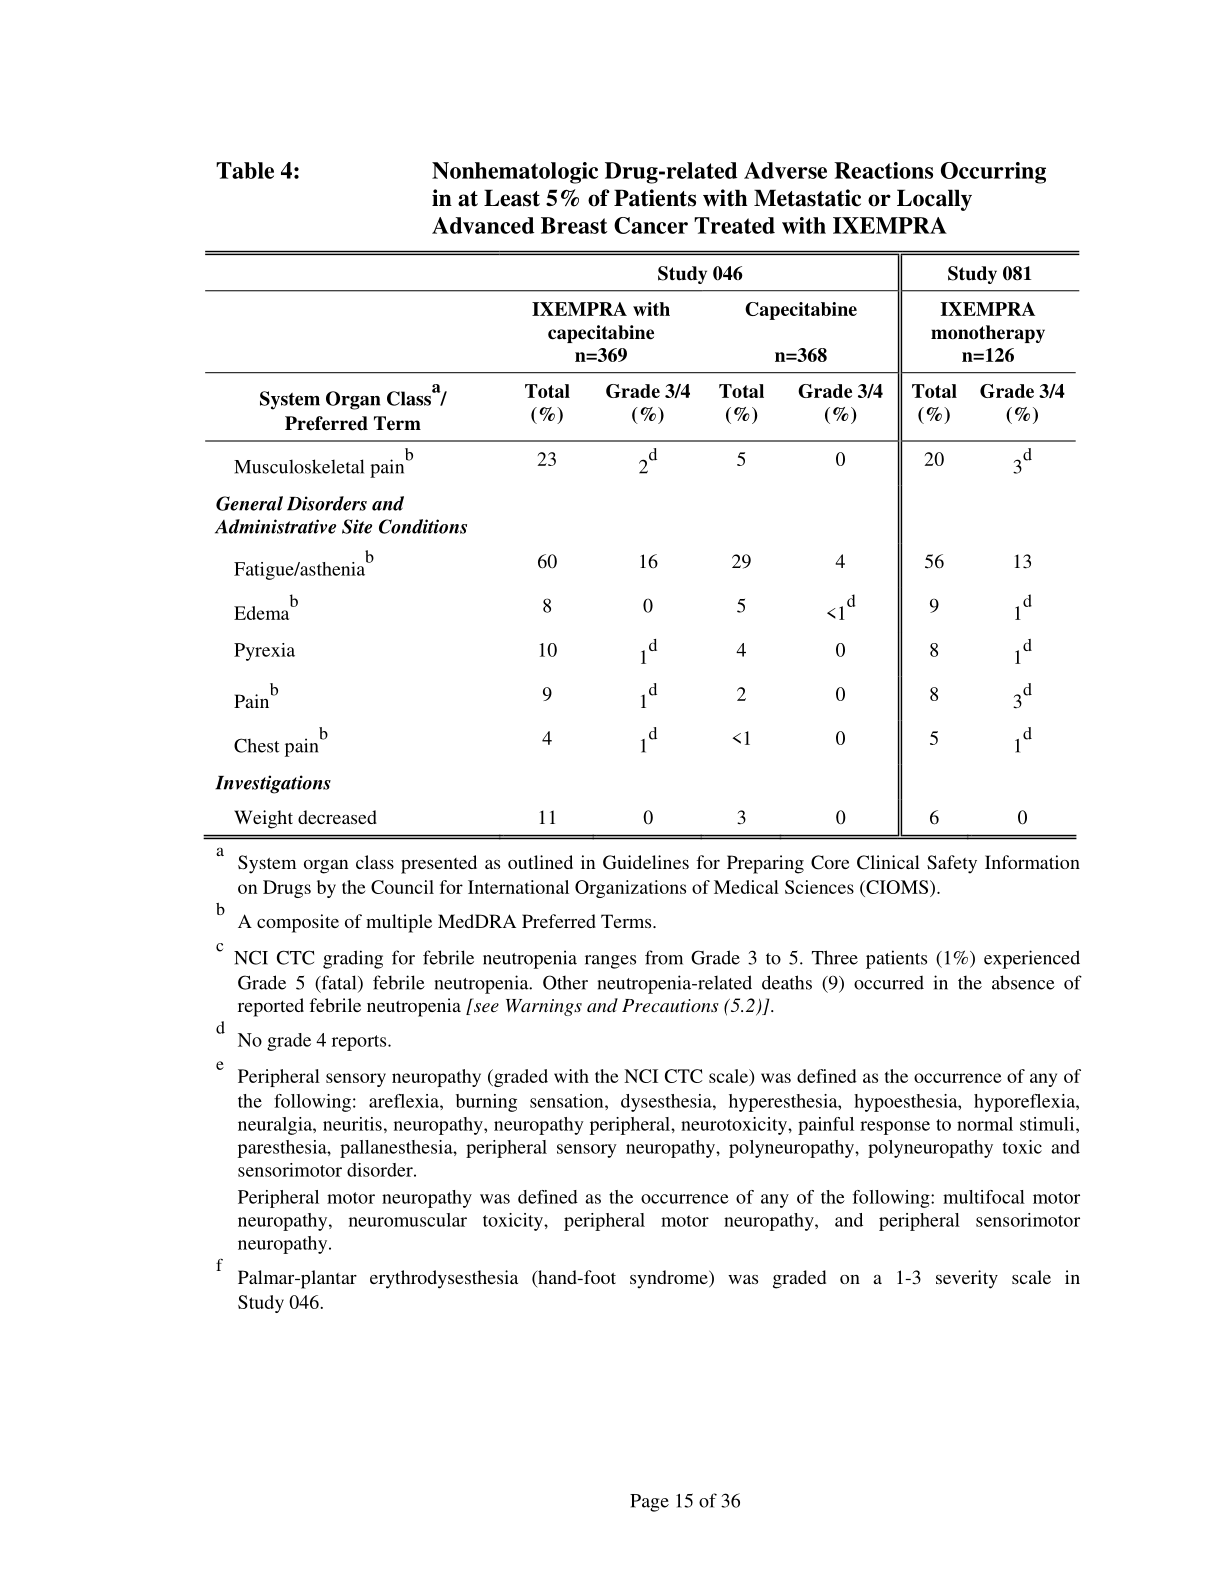partial_lined_merged_cells: (201, 247, 1080, 845)
